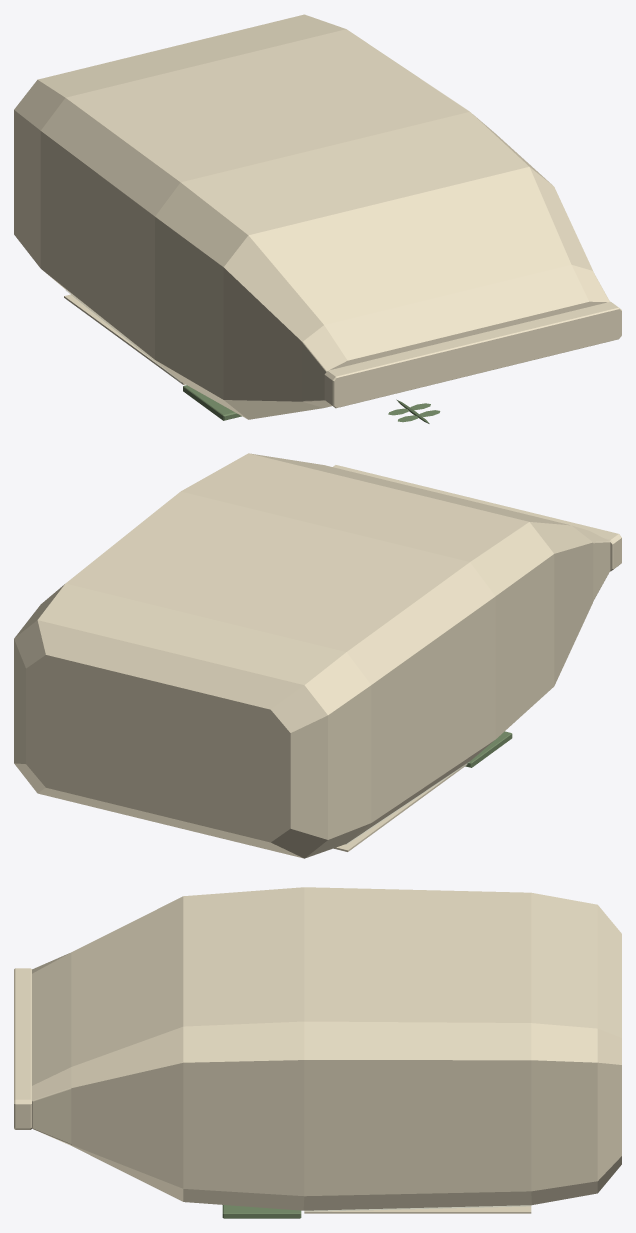
Rendered from pearl_barley.glb.
3 renders of one model, top to bottom at view 1: azimuth 30°, elevation 25°; view 2: azimuth 150°, elevation 25°; view 3: azimuth 270°, elevation 25°, orthographic. The views are drawn at different scales.
Parts seen in each view (by area): view 1: pearl_barley; view 2: pearl_barley; view 3: pearl_barley.
Part boxes in pixels (box(x1,y1,x2,y2)): pearl_barley: box(14, 14, 621, 423); pearl_barley: box(14, 453, 621, 858); pearl_barley: box(14, 887, 621, 1218).
Size of the model in its own units: 0.1236 by 0.0721 by 0.201.
